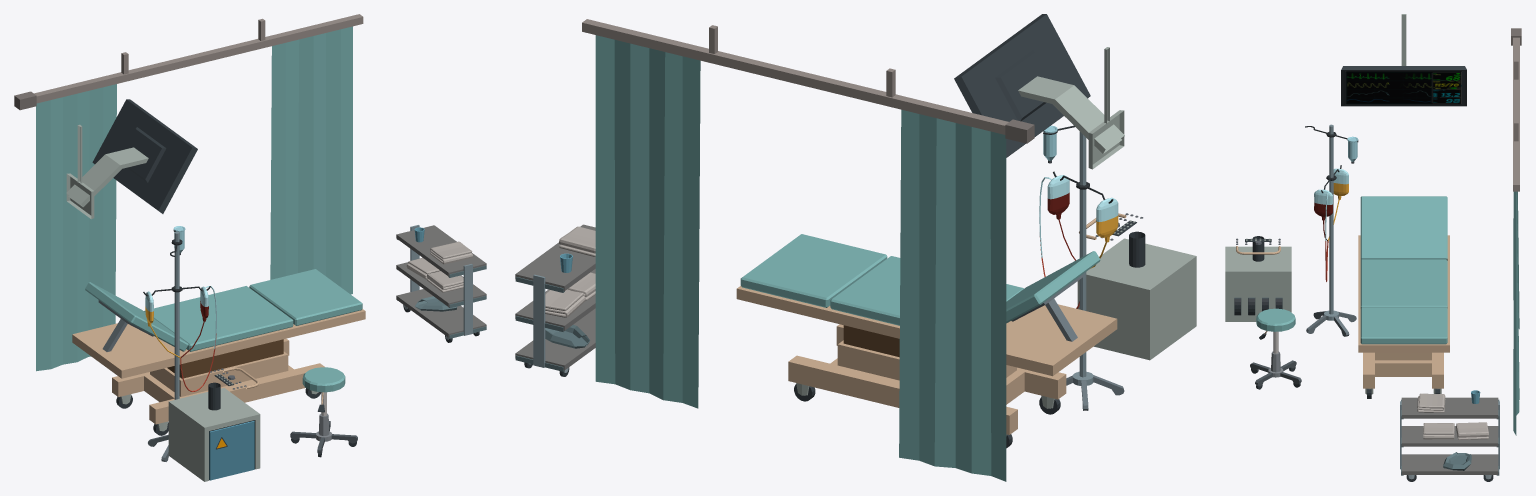
File: MedicalEquipment.glb
The picture shows the model from 3 angles, left to right: view 1: azimuth 30°, elevation 25°; view 2: azimuth 150°, elevation 25°; view 3: azimuth 270°, elevation 25°; orthographic projection. The views are drawn at different scales.
Parts seen in each view (by area): view 1: Plane, Cube.024, Cube.007, Cube.025, Cube.027, Cube.021, Cube.031, Cube.034, Cube.026, Cube.019, Cube.028, Cylinder.026 (+7 smaller); view 2: Plane, Cube.007, Cube.024, Cube.025, Cube.031, Cube.021, Cube.026, Cube.034, Cube.019, Cube.027, Cylinder.026, Cube.028 (+7 smaller); view 3: Cube.028, Cube.021, Cube.034, Cube.027, Cube.007, Cube.026, Cube.024, Plane, Cube.025, Cylinder.026, Cube.031, Cube.052 (+7 smaller).
Boxes of the visible parts, box(x1,y1,x2,y2) form: Plane: box(36, 26, 352, 371); Cube.024: box(112, 338, 324, 424); Cube.007: box(168, 388, 260, 481); Cube.025: box(72, 309, 365, 378); Cube.027: box(144, 286, 293, 351); Cube.021: box(92, 99, 197, 213); Cube.031: box(14, 14, 363, 110); Cube.034: box(396, 225, 486, 337); Cube.026: box(249, 269, 362, 325); Cube.019: box(66, 124, 148, 219); Cube.028: box(85, 282, 188, 351); Cylinder.026: box(148, 231, 179, 461); Plane: box(595, 35, 1006, 481); Cube.007: box(1077, 238, 1196, 360); Cube.024: box(788, 324, 1066, 434); Cube.025: box(736, 286, 1117, 376); Cube.031: box(582, 19, 1034, 143); Cube.021: box(954, 14, 1090, 157); Cube.026: box(740, 234, 887, 307); Cube.034: box(515, 224, 595, 370); Cube.019: box(1018, 47, 1124, 169); Cube.027: box(830, 256, 1023, 325); Cylinder.026: box(1066, 131, 1124, 410); Cube.028: box(1006, 251, 1100, 323); Cube.028: box(1360, 196, 1447, 260); Cube.021: box(1341, 66, 1466, 106); Cube.034: box(1401, 397, 1498, 474); Cube.027: box(1360, 259, 1447, 308); Cube.007: box(1225, 246, 1291, 321); Cube.026: box(1360, 307, 1447, 344); Cube.024: box(1363, 352, 1443, 388); Plane: box(1513, 191, 1519, 435); Cube.025: box(1358, 235, 1449, 352); Cylinder.026: box(1306, 124, 1356, 336); Cube.031: box(1511, 28, 1521, 191); Cube.052: box(1314, 168, 1348, 220).
Size of the model in its own units: 379 by 275 by 256.
2 materials, 2 textured.
